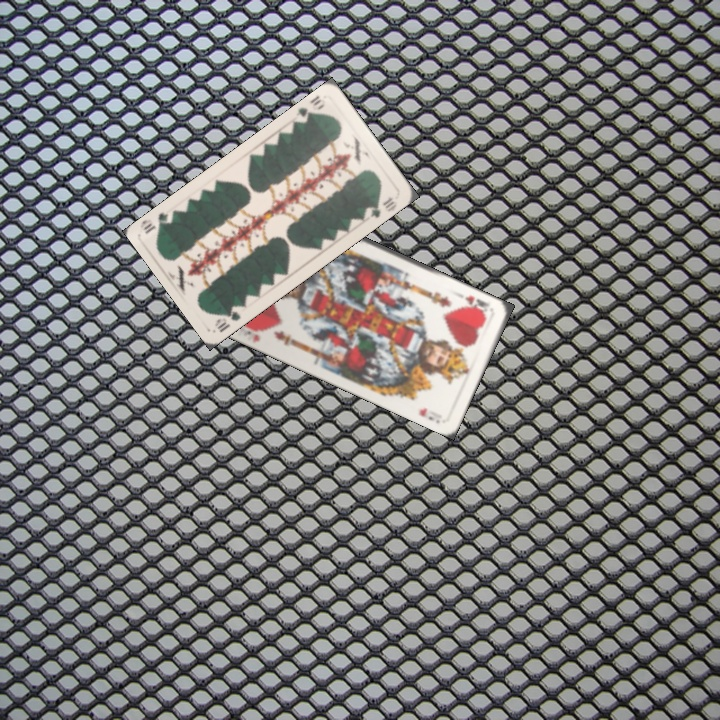G10: (292, 92, 328, 126), (210, 305, 243, 335)
HK: (461, 291, 492, 317), (235, 320, 262, 345)
